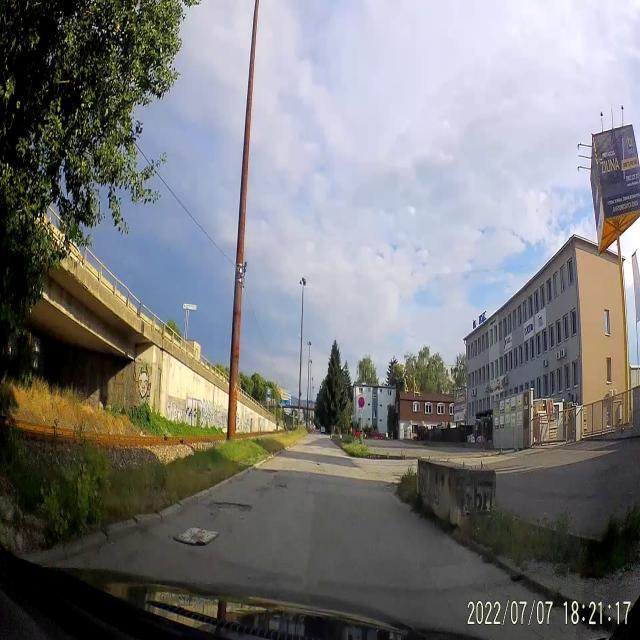Pothole: (202, 496, 254, 512), (266, 481, 292, 494), (260, 466, 278, 476)
